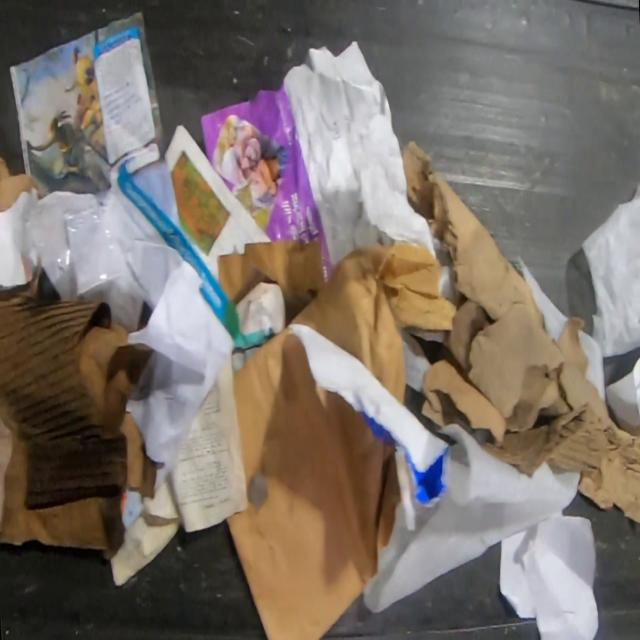cardboard: (403, 139, 609, 477), (226, 324, 400, 640), (0, 293, 157, 561), (288, 241, 460, 404), (217, 240, 324, 324), (577, 419, 640, 525), (0, 156, 47, 216), (0, 262, 47, 301)
soft_plastic: (35, 190, 131, 329)
